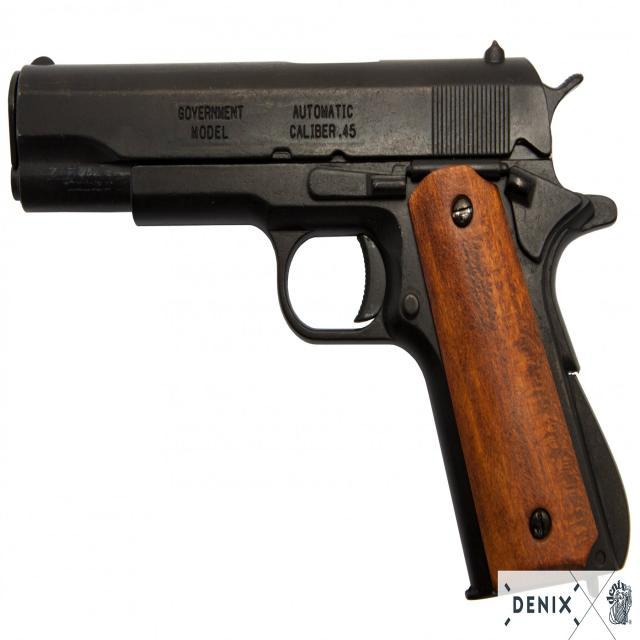Pistol: (3, 42, 637, 628)
